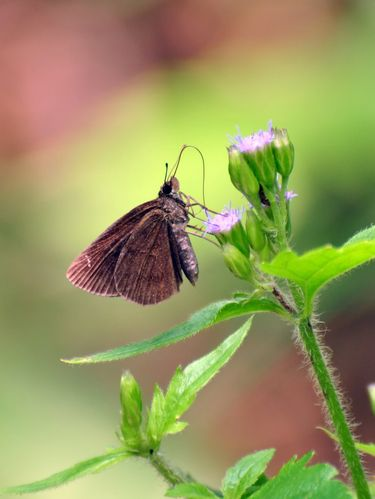Hesperiidae: (66, 142, 221, 309)
